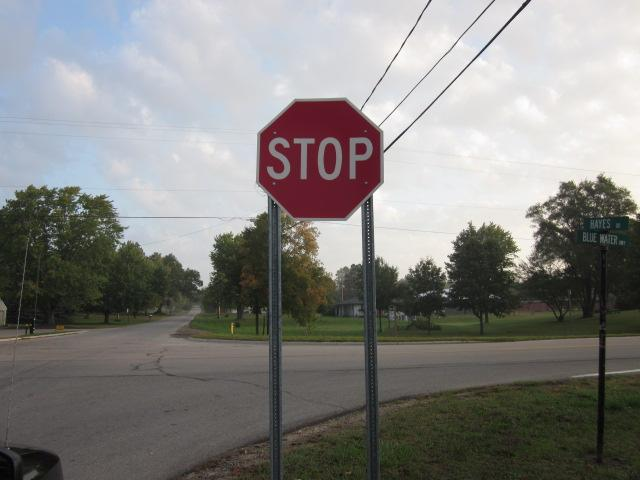stop: (251, 99, 386, 223)
